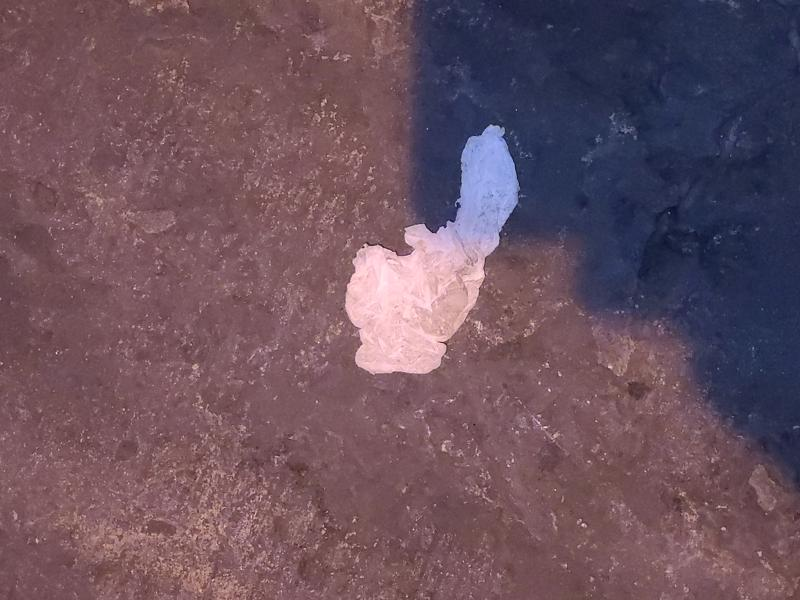papel: (343, 128, 519, 377)
